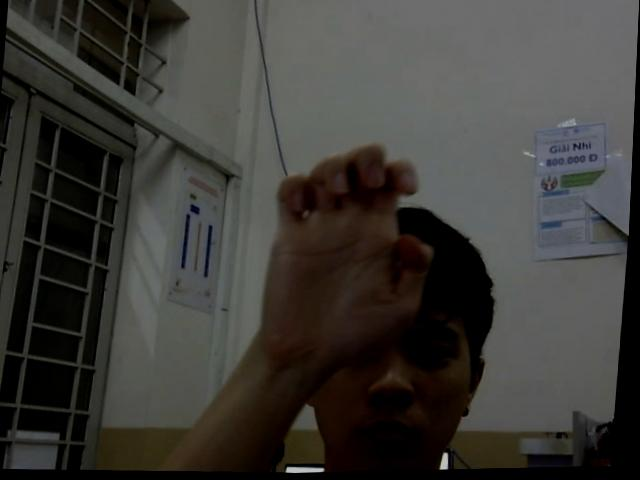E: (260, 139, 444, 374)
